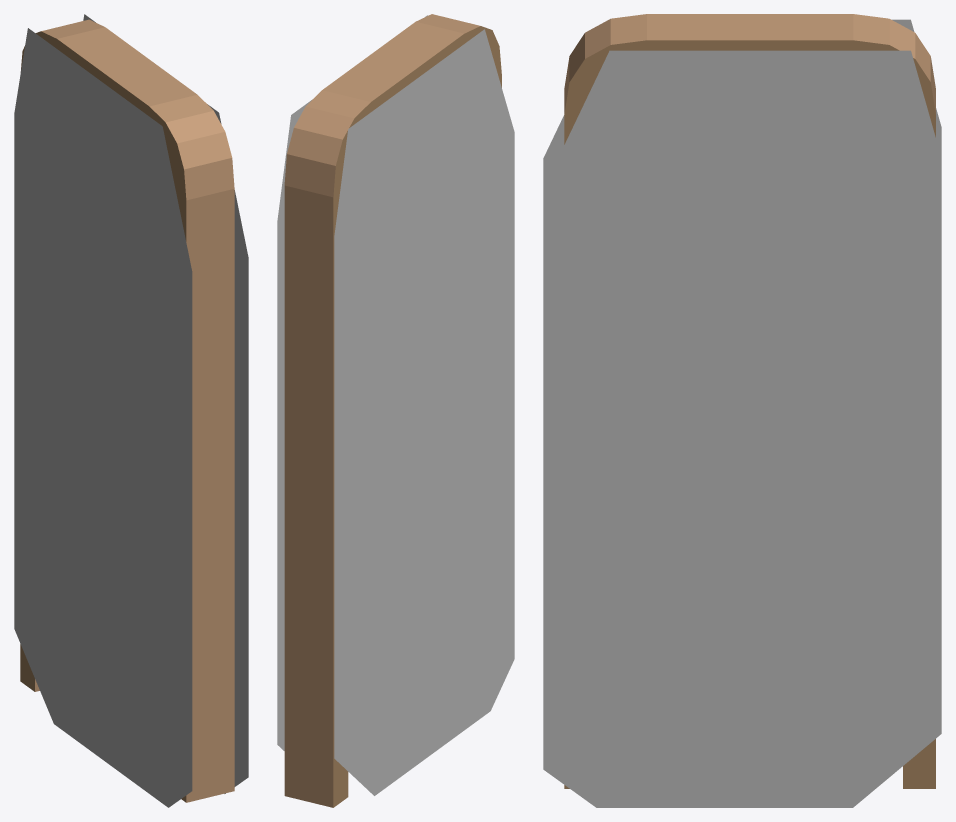
Rendered from Home_B_RF_33_01_SM.fbx.
The picture shows the model from 3 angles, left to right: view 1: azimuth 30°, elevation 25°; view 2: azimuth 150°, elevation 25°; view 3: azimuth 270°, elevation 25°; orthographic projection. The views are drawn at different scales.
Visible parts, largest first — view 1: Home_B_RF_33_01_P, Home_B_RF_33_01; view 2: Home_B_RF_33_01_P, Home_B_RF_33_01; view 3: Home_B_RF_33_01_P, Home_B_RF_33_01.
Boxes of the visible parts, <box> form: Home_B_RF_33_01_P: <box>14,14,248,807</box>; Home_B_RF_33_01: <box>20,19,234,802</box>; Home_B_RF_33_01_P: <box>277,15,514,795</box>; Home_B_RF_33_01: <box>284,14,501,807</box>; Home_B_RF_33_01_P: <box>543,19,941,807</box>; Home_B_RF_33_01: <box>564,14,935,788</box>.
Bounding box in the file's own units: 17.63 × 204 × 96.41.
